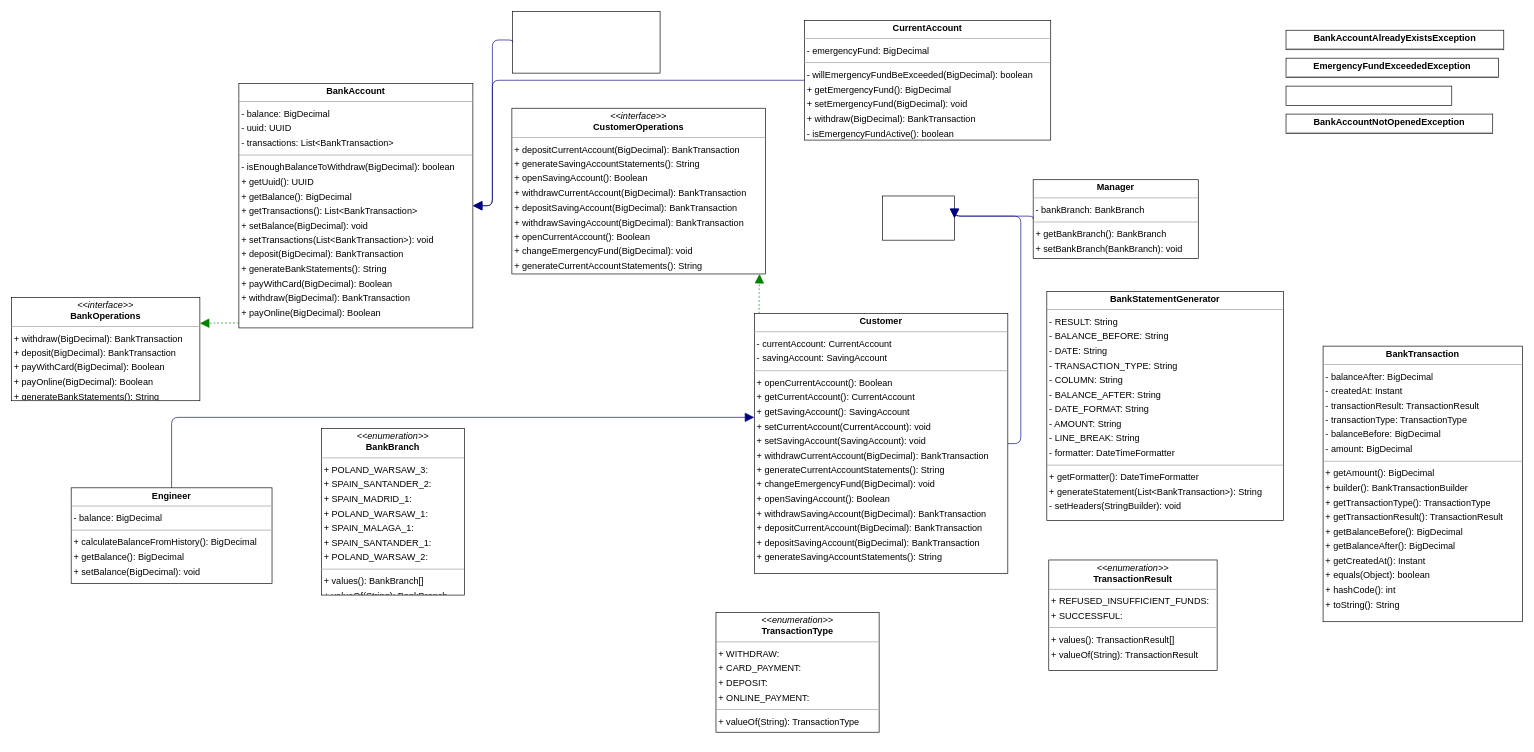
The diagram is 1534 pixels wide and 752 high, and some of its shapes have lost their labels. Each missing label, with the centre of its shape:
NegativeNumberException: the point at 1368,95
SavingAccount - interestRate: BigDecimal + getInterestRate(): BigDecimal: the point at 586,42
User + uuid: UUID: the point at 918,217
